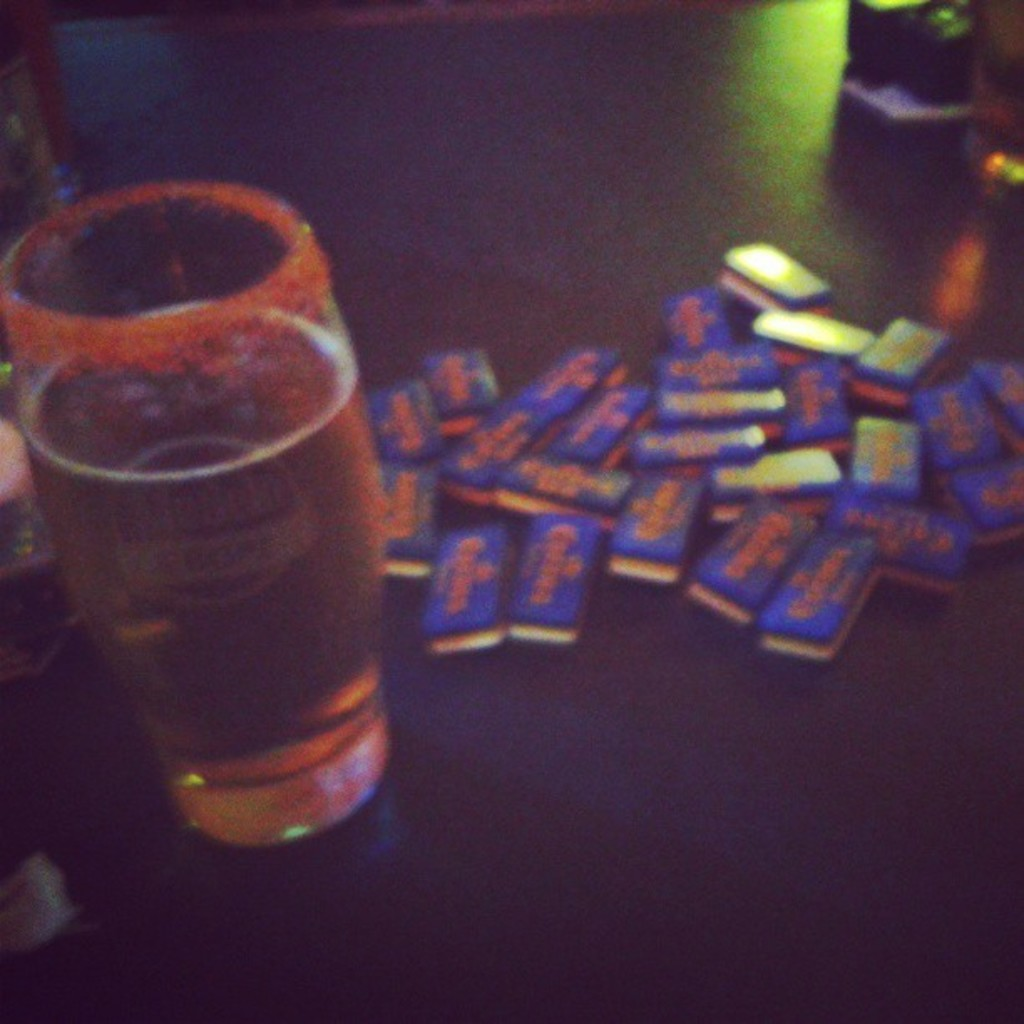Beer: (11, 301, 363, 839)
